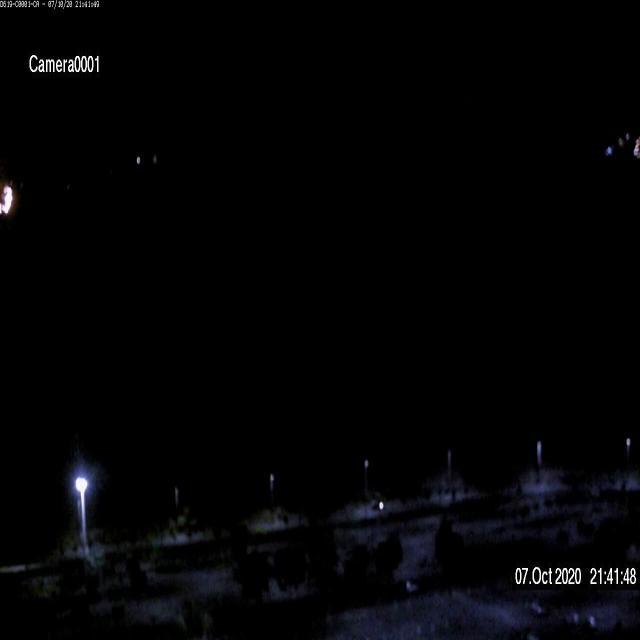Fire: (1, 183, 14, 217)
